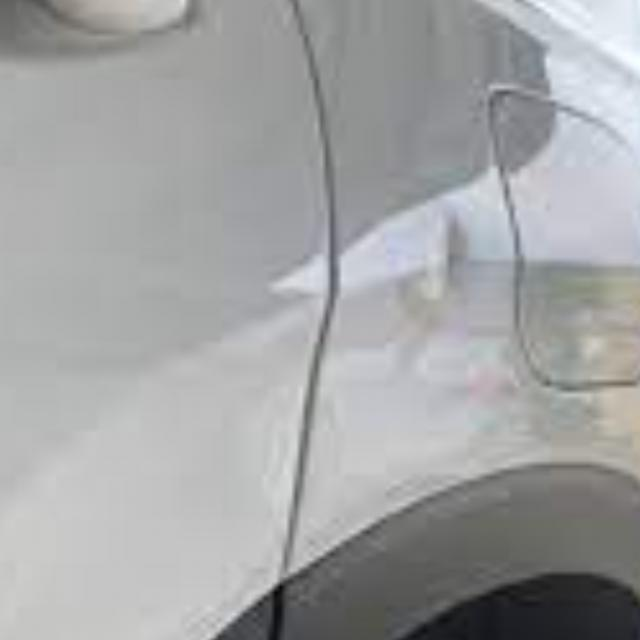dents: (409, 196, 507, 356)
